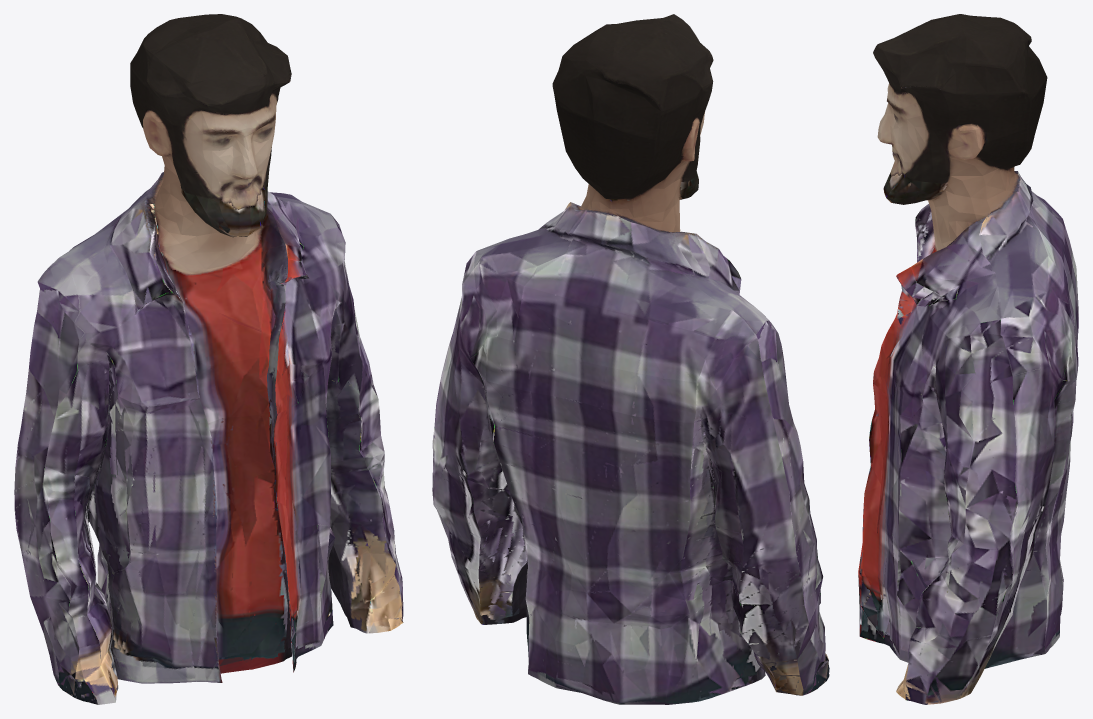
The model's file is step_7.glb.
3 renders of one model, left to right at view 1: azimuth 30°, elevation 25°; view 2: azimuth 150°, elevation 25°; view 3: azimuth 270°, elevation 25°, orthographic. The views are drawn at different scales.
Parts seen in each view (by area): view 1: geometry_0; view 2: geometry_0; view 3: geometry_0.
Boxes of the visible parts, x1=… form: geometry_0: x1=14, y1=14, x2=403, y2=704; geometry_0: x1=432, y1=14, x2=829, y2=704; geometry_0: x1=858, y1=14, x2=1078, y2=704.
Size of the model in its own units: 0.5031 by 0.8284 by 0.2748.
Materials: 1 (1 with a texture image).
